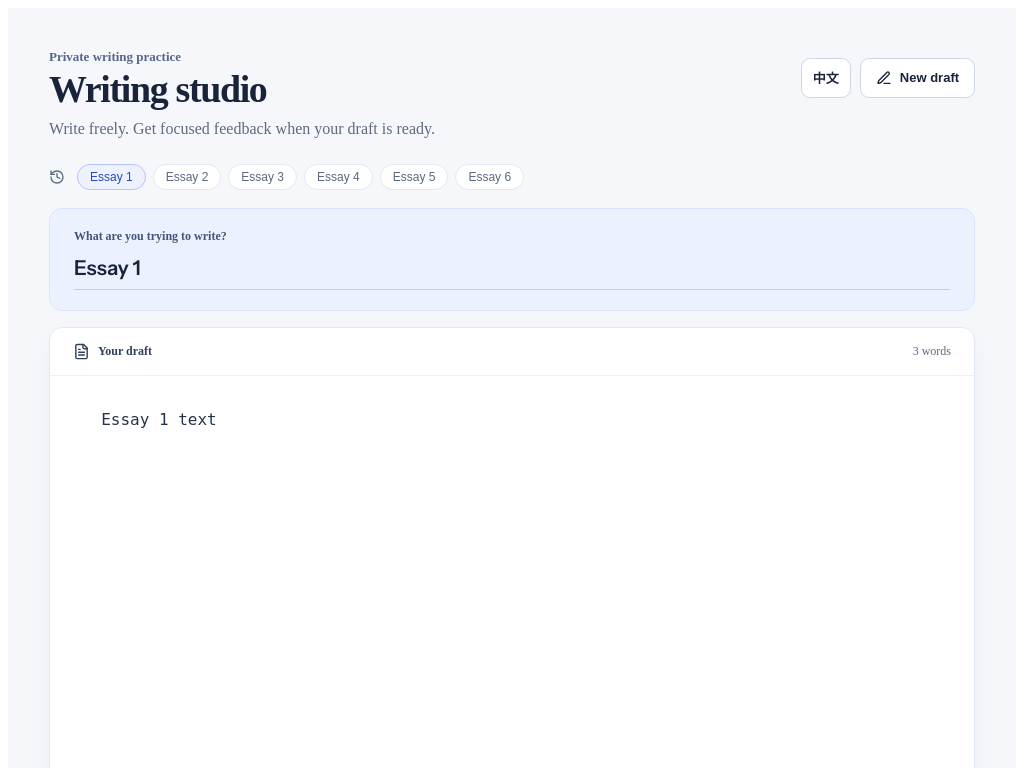
Test: PracticeStudio draft history › opens an older saved draft beyond the five most recent drafts
This screenshot has width=1024, height=768.
Click the button "Essay 6".
click(490, 177)  # box [455,164,524,190]
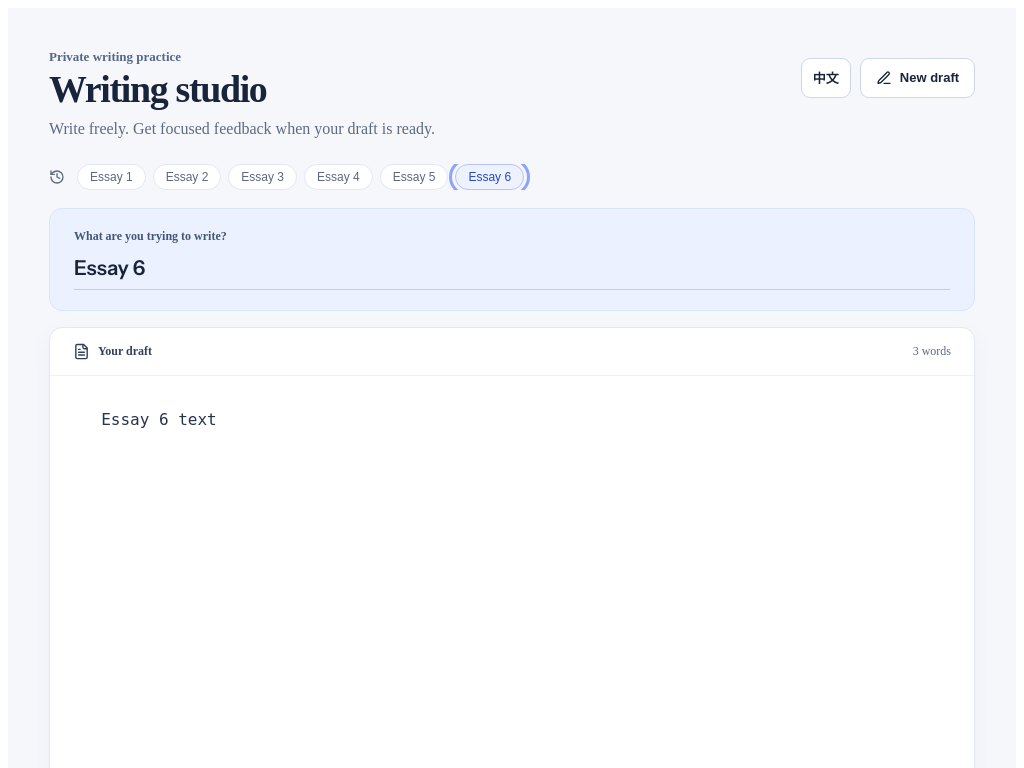
Expected: the field labelled "What are you trying to write?" holds "Essay 6", [74,252,950,290]
